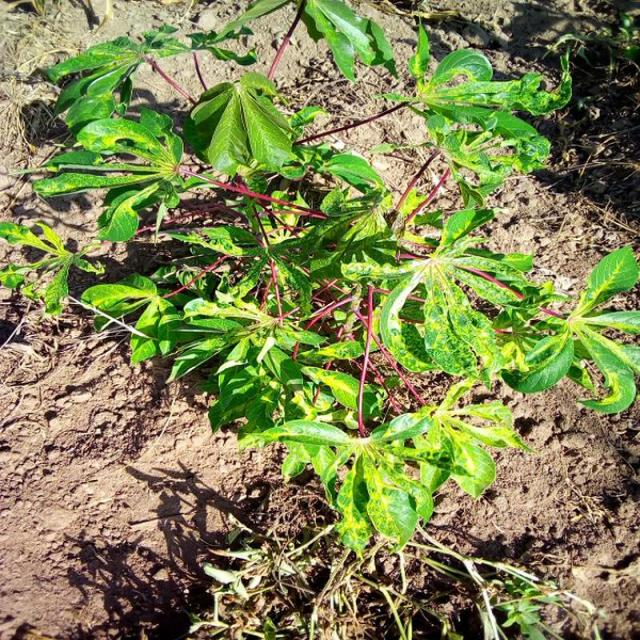cassava leaf: (13, 1, 638, 558), (378, 206, 528, 379), (184, 71, 299, 178)
